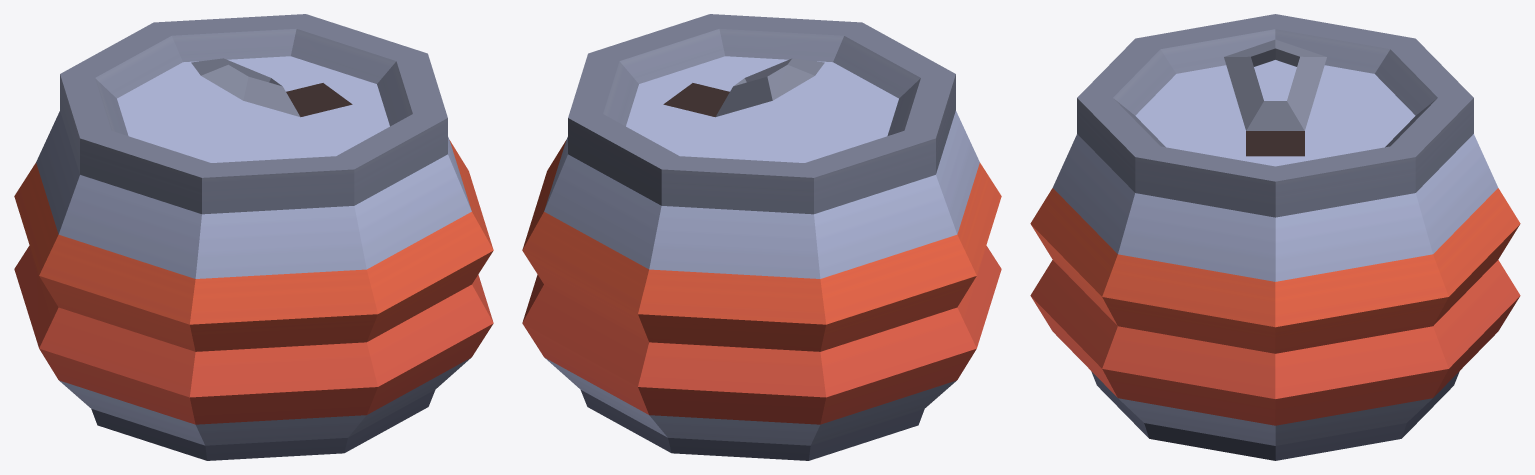
The model's file is DrinkCanCrushed.obj.
3 renders of one model, left to right at view 1: azimuth 30°, elevation 25°; view 2: azimuth 150°, elevation 25°; view 3: azimuth 270°, elevation 25°, orthographic.
Parts seen in each view (by area): view 1: soda_can_crushed; view 2: soda_can_crushed; view 3: soda_can_crushed.
Boxes of the visible parts, x1=… form: soda_can_crushed: x1=14, y1=14, x2=493, y2=460; soda_can_crushed: x1=522, y1=14, x2=1001, y2=460; soda_can_crushed: x1=1030, y1=14, x2=1520, y2=460.
Bounding box in the file's own units: 0.0865 × 0.0632 × 0.0865.
1 material, 1 textured.
